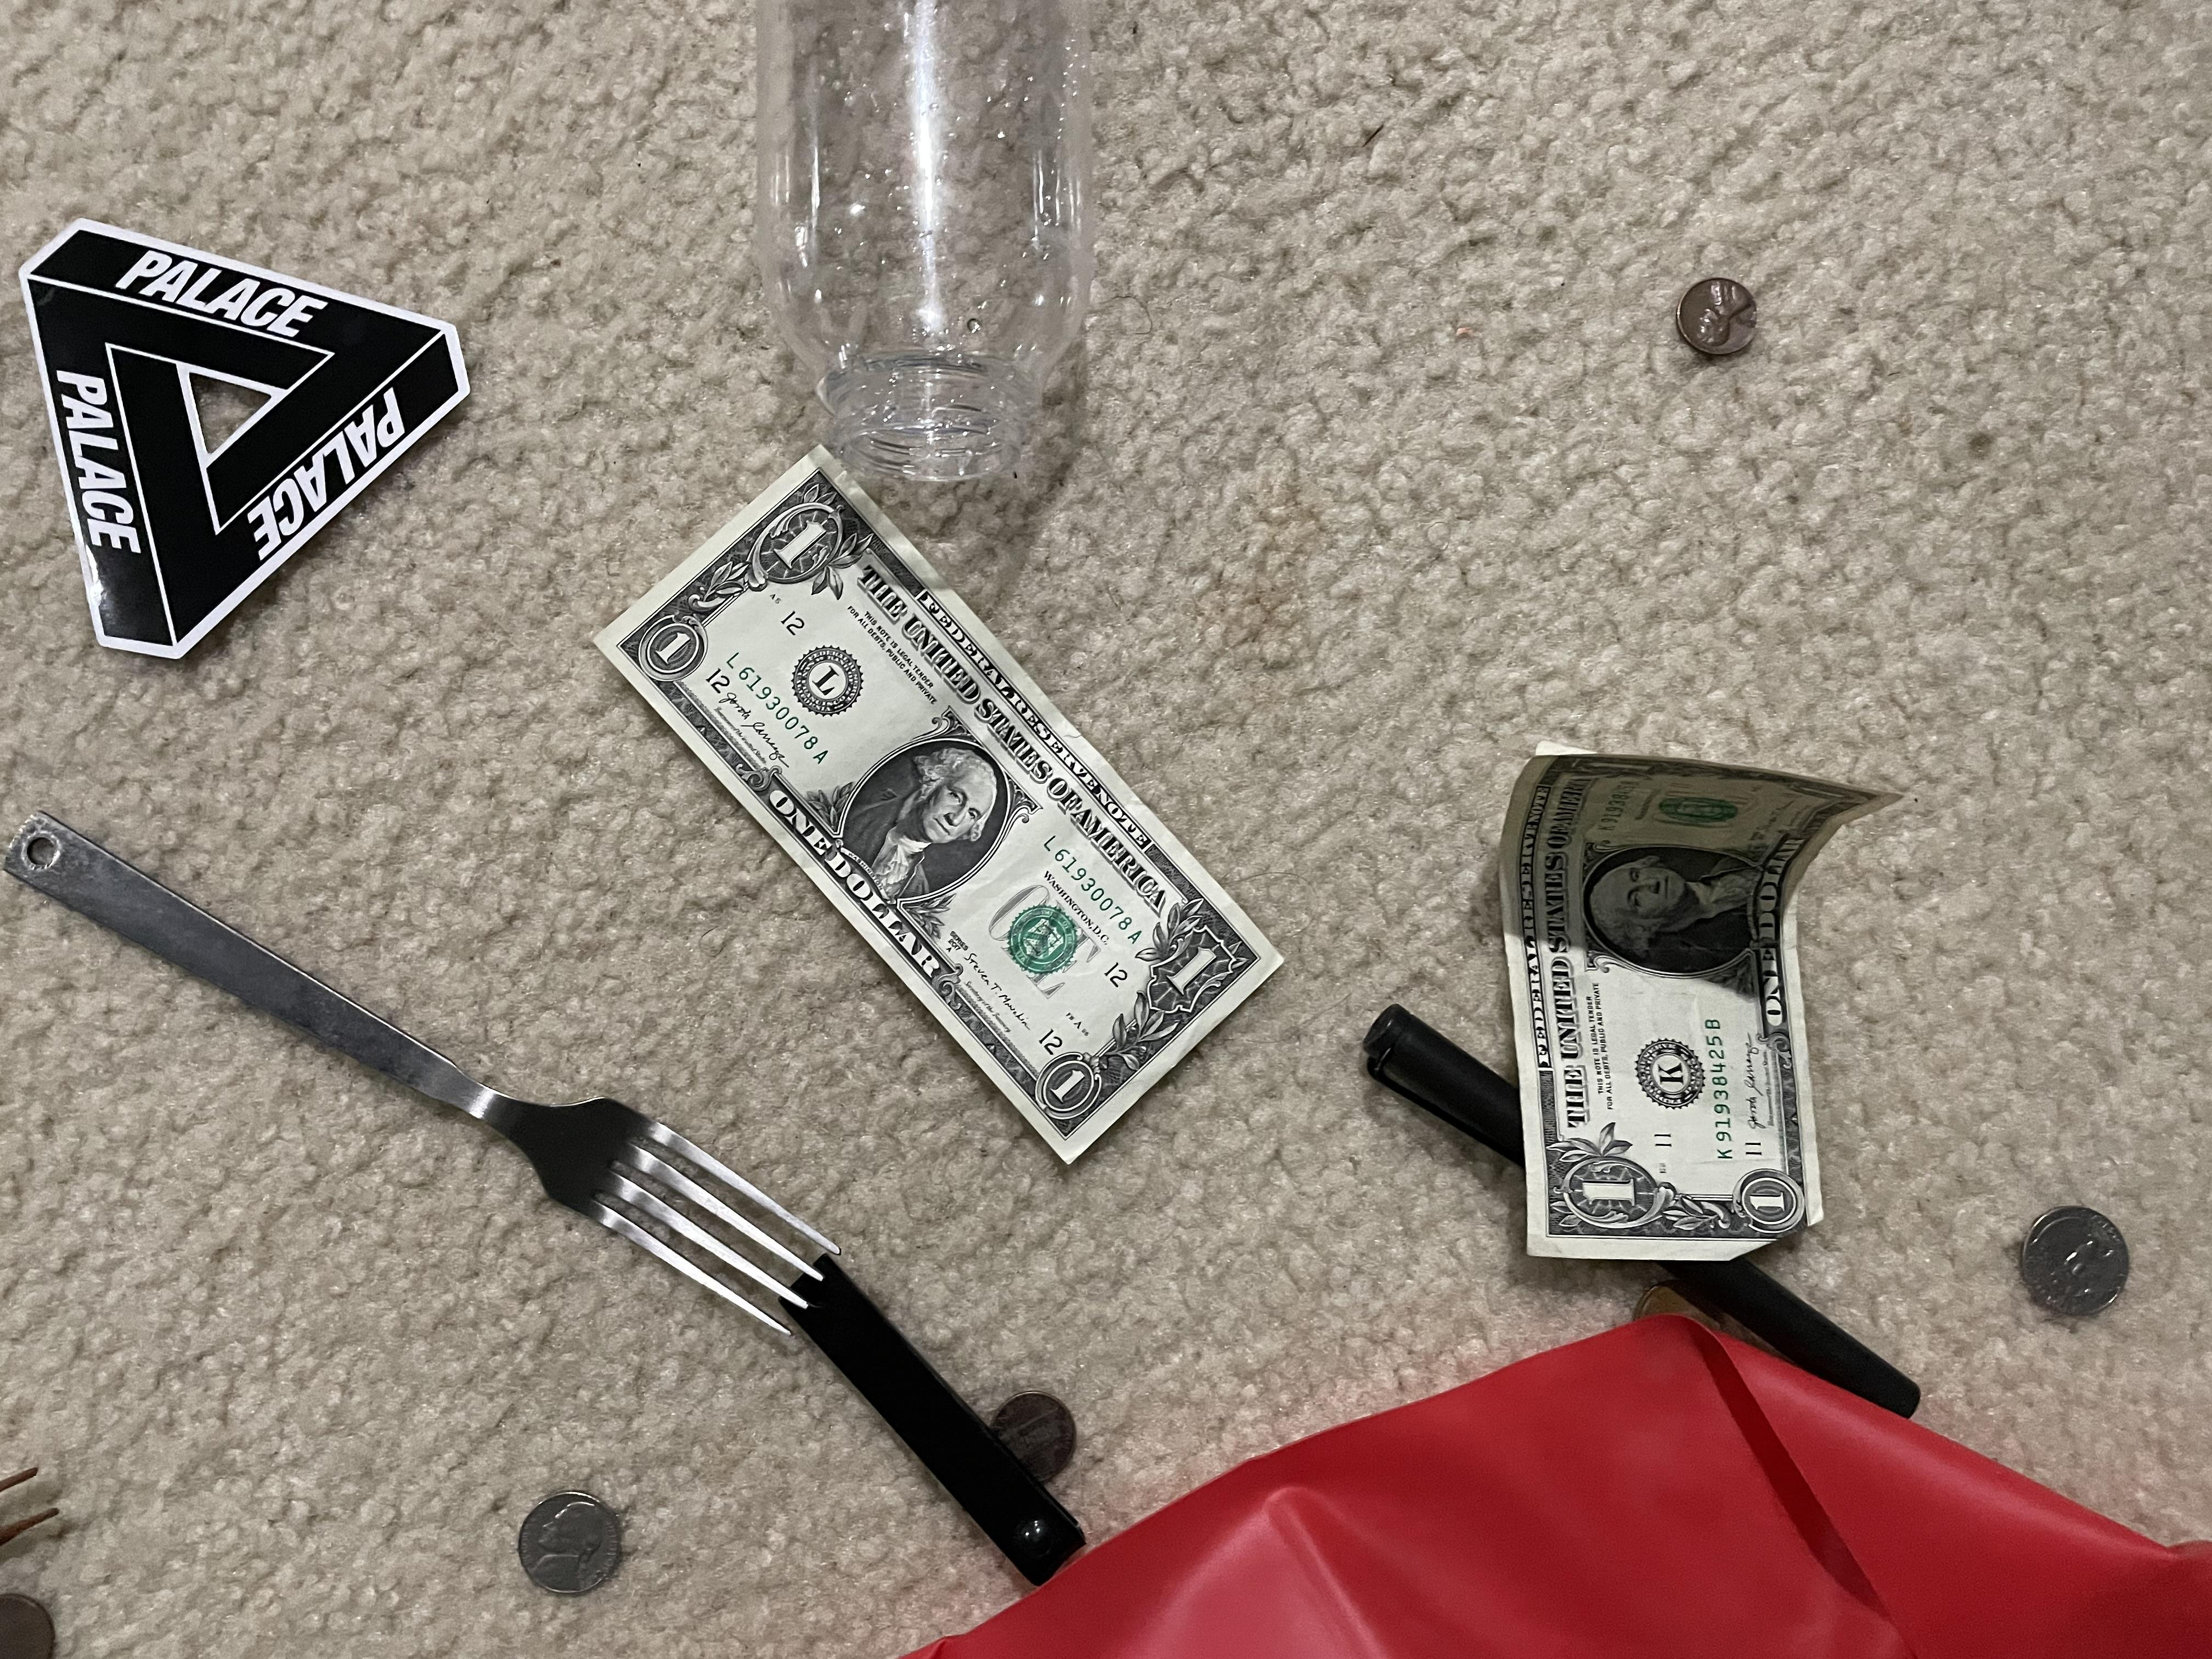Nickel: (507, 1488, 648, 1610)
OneBill: (578, 437, 1289, 1171), (1500, 727, 1916, 1279)
Penny: (1669, 265, 1778, 373), (984, 1384, 1092, 1476)
Quarter: (2012, 1194, 2148, 1324)
